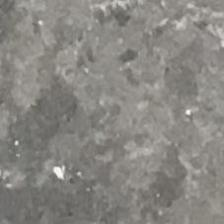Non_Crack: (4, 37, 224, 188)
